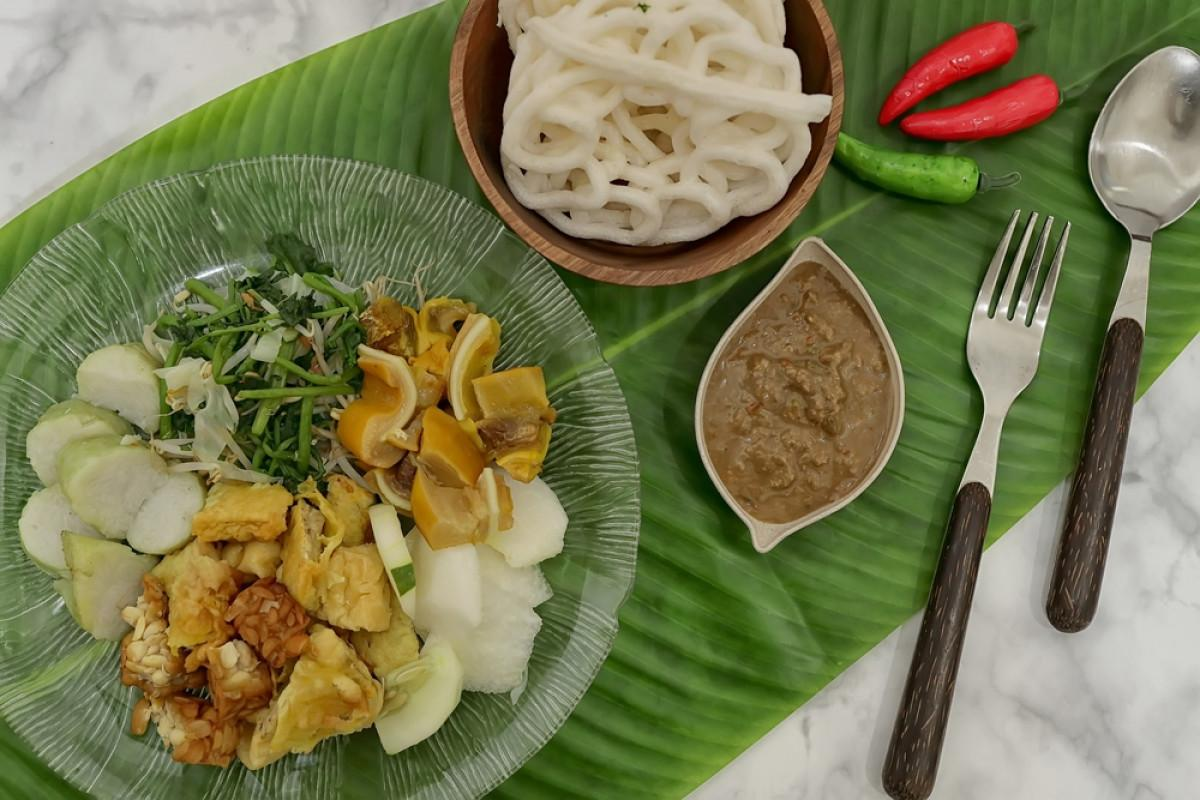rujak_cingur: (17, 239, 570, 773)
